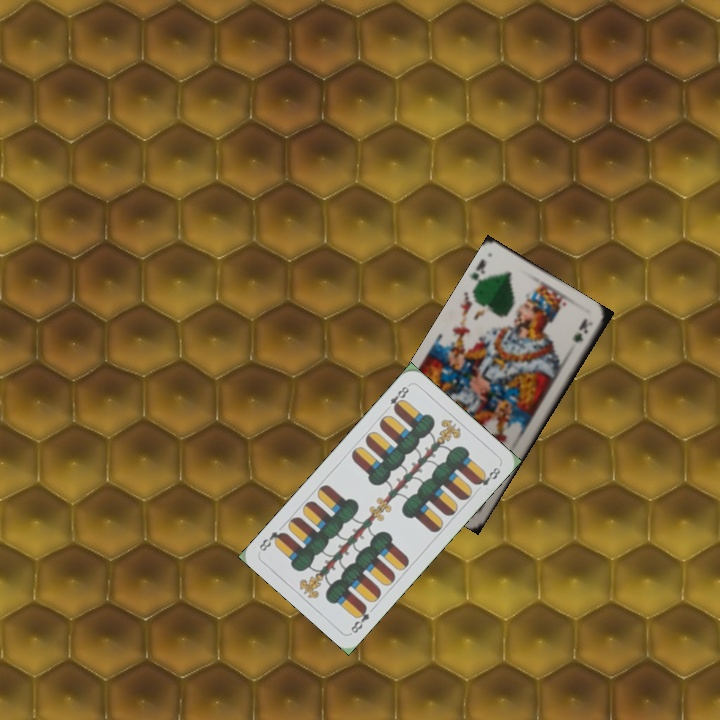E8: (347, 601, 372, 636), (386, 381, 412, 414)
GK: (466, 255, 488, 292)
